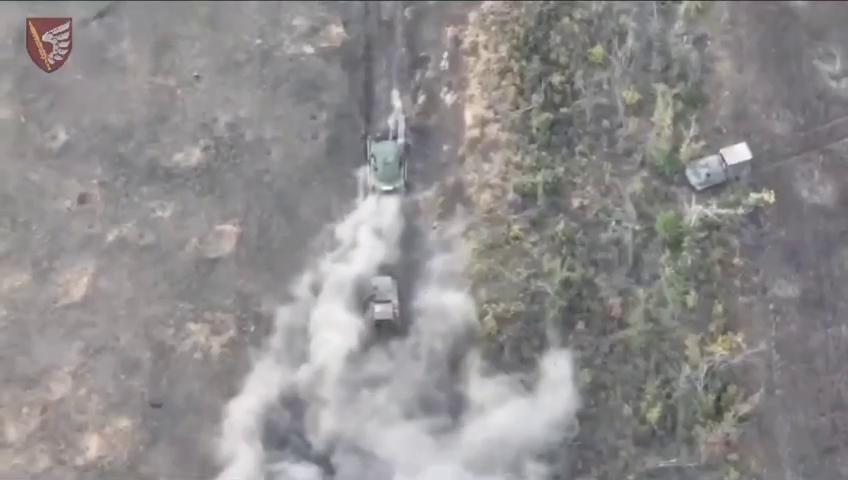tank: (687, 139, 752, 193), (365, 136, 412, 204), (362, 274, 406, 333)
